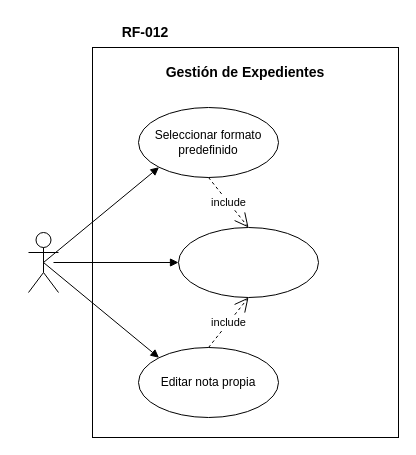
Image size: 416x455. Some labels were removed from this diagram. Each missing label, with the box of its shape:
Agregar nota de sesión: (178, 226, 318, 298)
Terapeuta: (28, 232, 58, 292)
